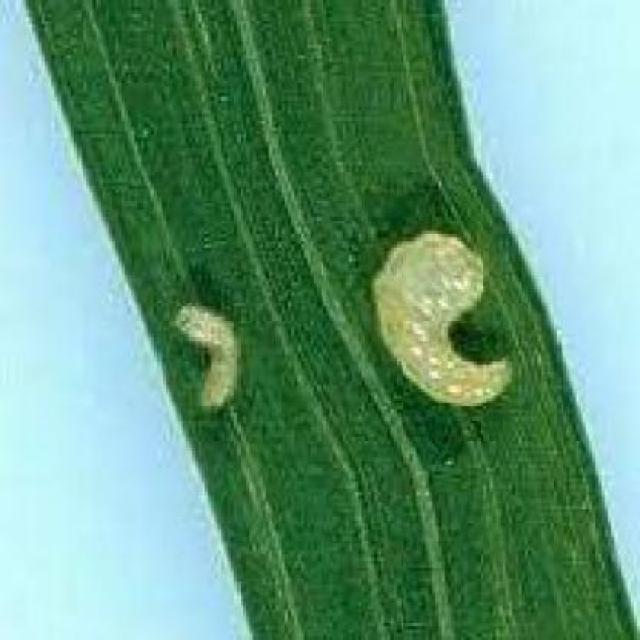whorl-maggot: (363, 227, 526, 418), (164, 288, 259, 432)
